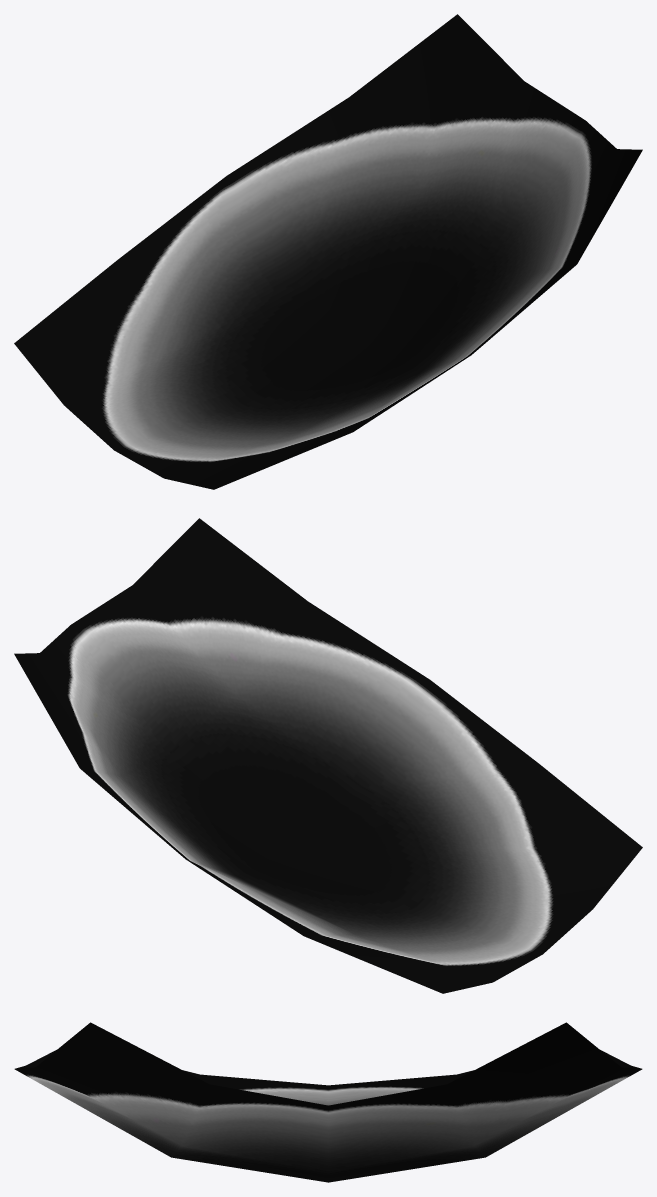
Rendered from 0260_common_wave_z02.glb.
3 views of the same model, one above another, from view 1: azimuth 30°, elevation 25°; view 2: azimuth 150°, elevation 25°; view 3: azimuth 270°, elevation 25° (orthographic). The views are drawn at different scales.
Bounding box in the file's own units: 2.2 × 1.17 × 1.98.
1 material, 1 textured.
